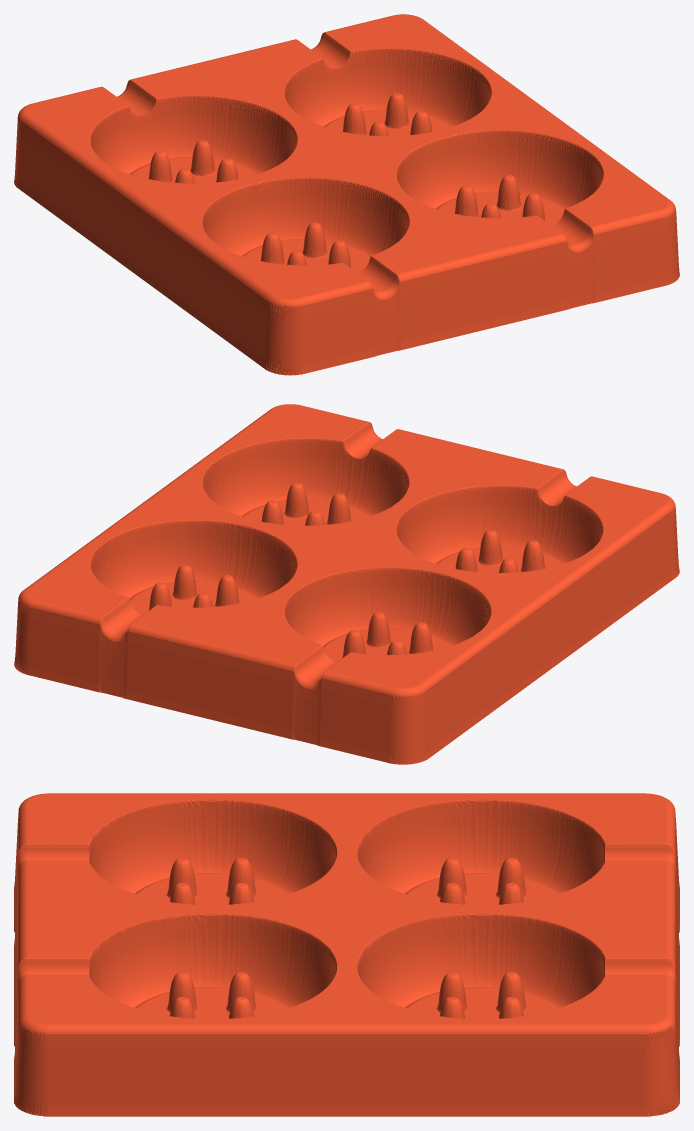
The model's file is mold.glb.
The picture shows the model from 3 angles, top to bottom: view 1: azimuth 30°, elevation 25°; view 2: azimuth 150°, elevation 25°; view 3: azimuth 270°, elevation 25°; orthographic projection. The views are drawn at different scales.
Parts seen in each view (by area): view 1: geometry_0; view 2: geometry_0; view 3: geometry_0.
Boxes of the visible parts, box(x1,y1,x2,y2) form: geometry_0: box(14, 14, 679, 375); geometry_0: box(14, 404, 679, 764); geometry_0: box(14, 793, 679, 1116).
Bounding box in the file's own units: 0.1468 × 0.0245 × 0.171.
